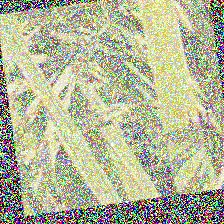Bacterial_Leaf_Blight: (184, 106, 194, 135)
